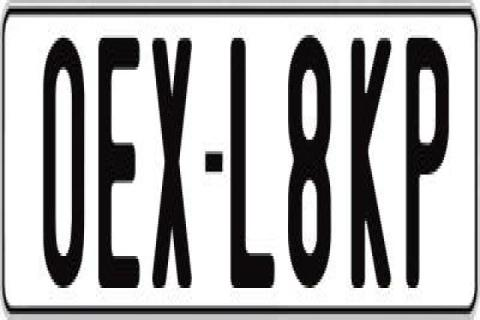0: (286, 29, 330, 294), (43, 38, 88, 291)
E: (95, 32, 137, 294)
K: (351, 38, 395, 306)
L: (230, 38, 282, 306)
P: (406, 29, 450, 285)
X: (152, 32, 194, 300)
